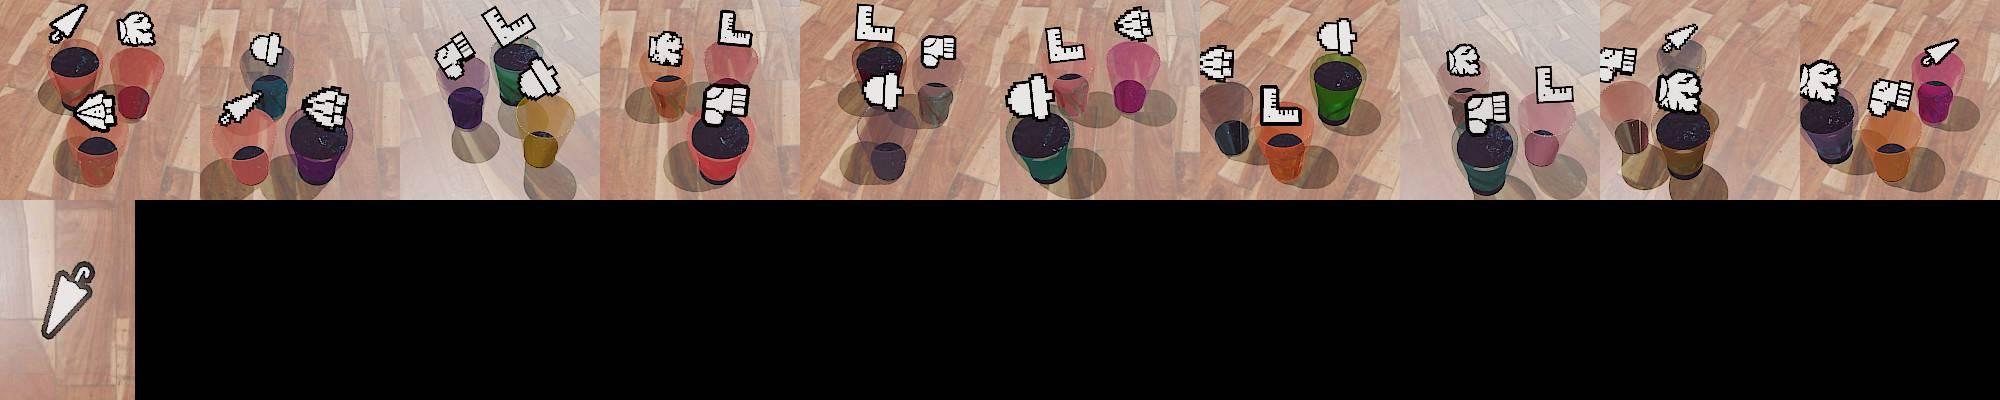icon: (41, 260, 97, 340), (481, 5, 535, 48), (1006, 71, 1052, 121), (301, 83, 349, 129), (433, 30, 477, 80), (1655, 68, 1702, 114), (702, 81, 749, 124), (516, 56, 562, 99), (73, 89, 119, 132), (1798, 59, 1842, 103), (1258, 83, 1302, 126), (1465, 91, 1510, 133), (1866, 77, 1913, 117), (855, 2, 897, 44), (48, 4, 89, 45), (1045, 26, 1086, 66), (1536, 64, 1576, 105), (218, 89, 262, 126), (1318, 16, 1358, 56), (862, 72, 902, 112), (715, 9, 753, 49), (1598, 46, 1638, 84), (1114, 6, 1154, 43), (116, 11, 157, 47), (248, 31, 286, 67), (1199, 45, 1235, 82), (648, 30, 684, 67), (1661, 22, 1701, 55), (921, 34, 957, 69), (1445, 43, 1480, 77), (1921, 38, 1960, 68)
